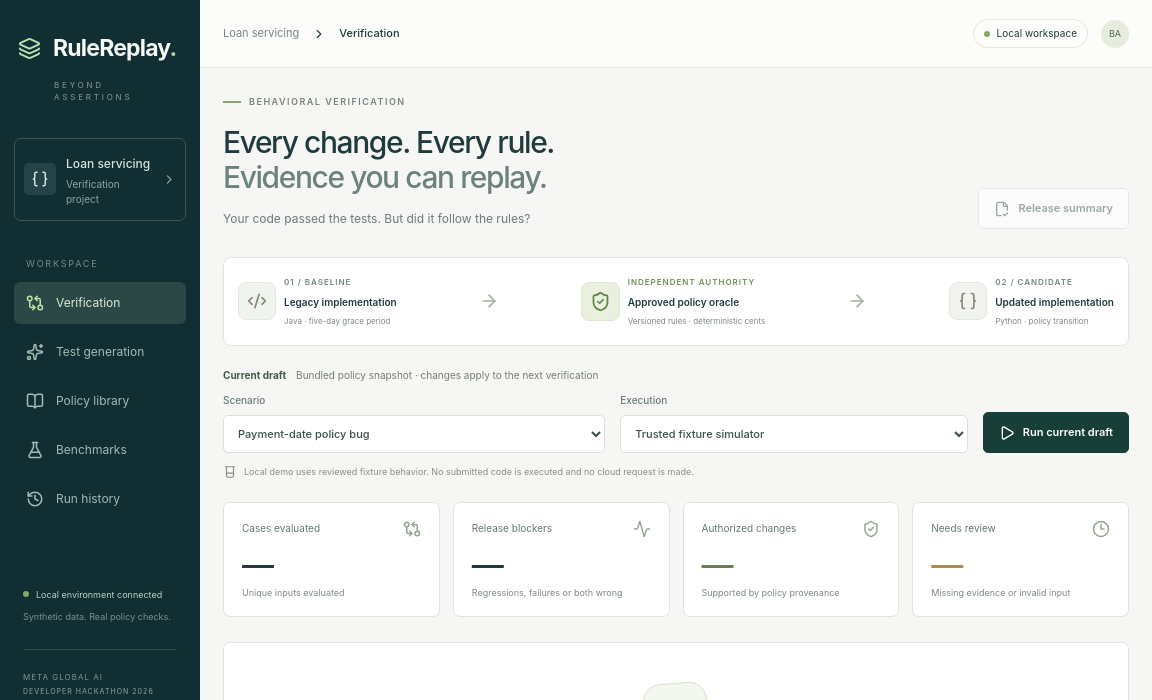
runs verification, inspects policy evidence and release decision
Expected: the text "Local environment connected" is shown, [23,588,177,601]
Click the button "Run current draft" at (1056, 433), box [983,412,1129,453]
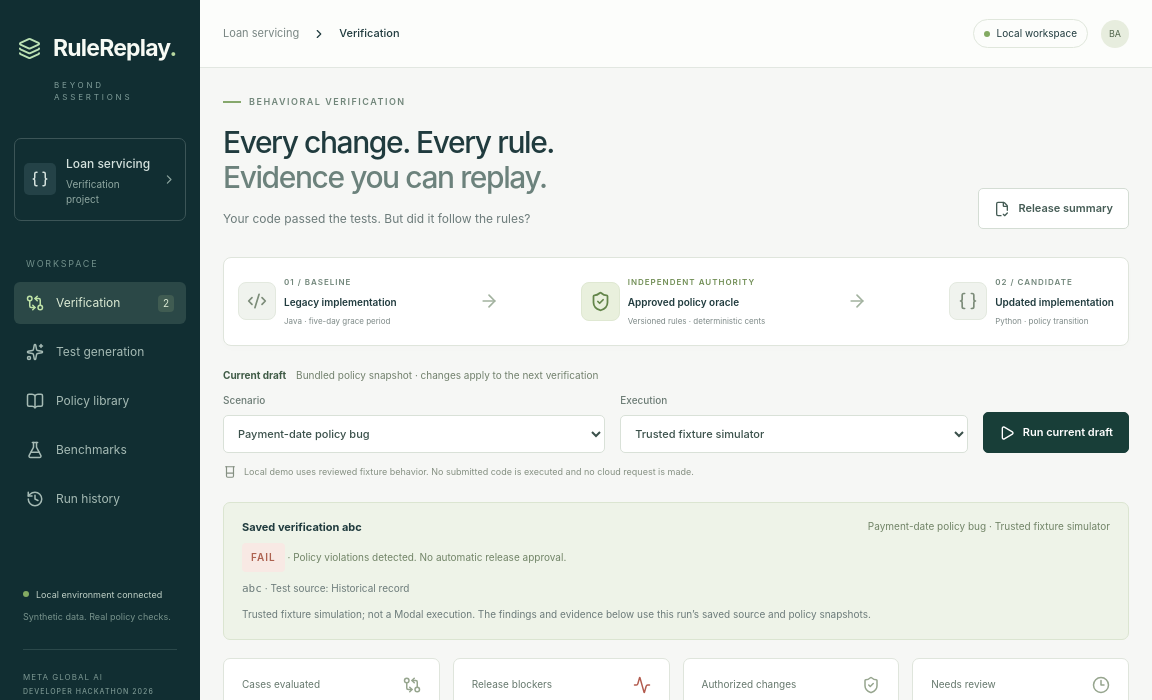
Click the button "Release summary" at (1054, 209), box [978,188,1129,229]
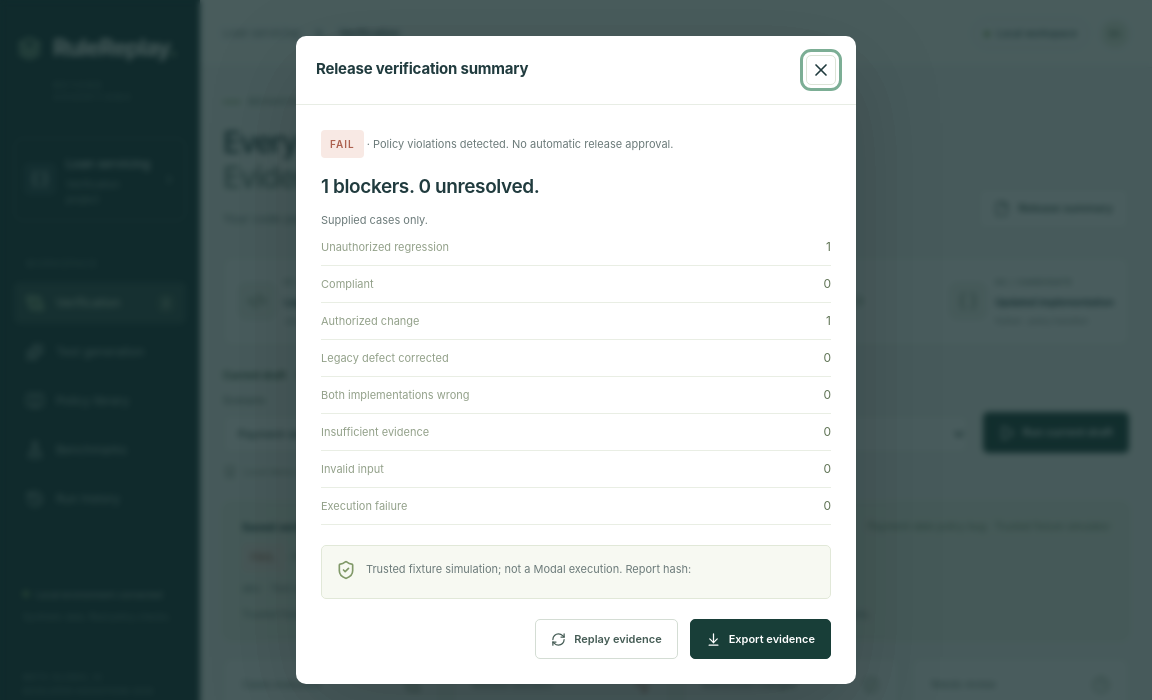
Now the dialog is shown, box [296,36,856,684]
Now the element named "Release advisory" shows "FAIL", box [330,138,355,150]
Click the button named "Close release summary" at (821, 70), box [806,55,836,85]
(page scrolled)
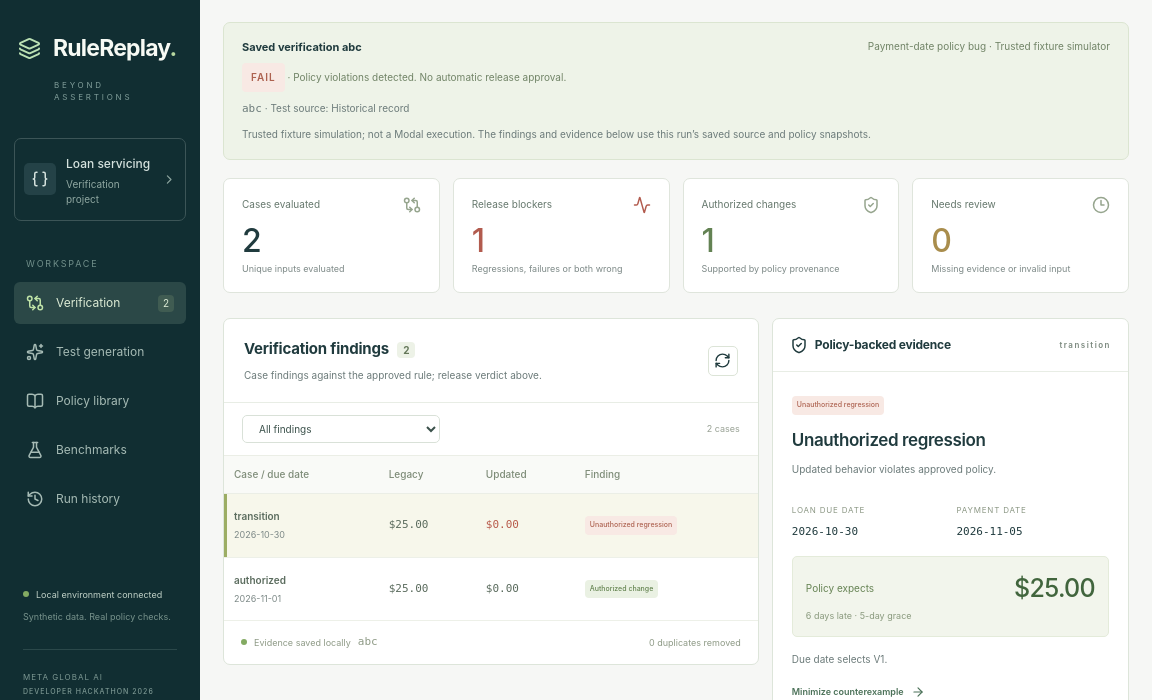
Click the button named "Replay saved evidence" at (723, 361), box [708,346,738,376]
(page scrolled)
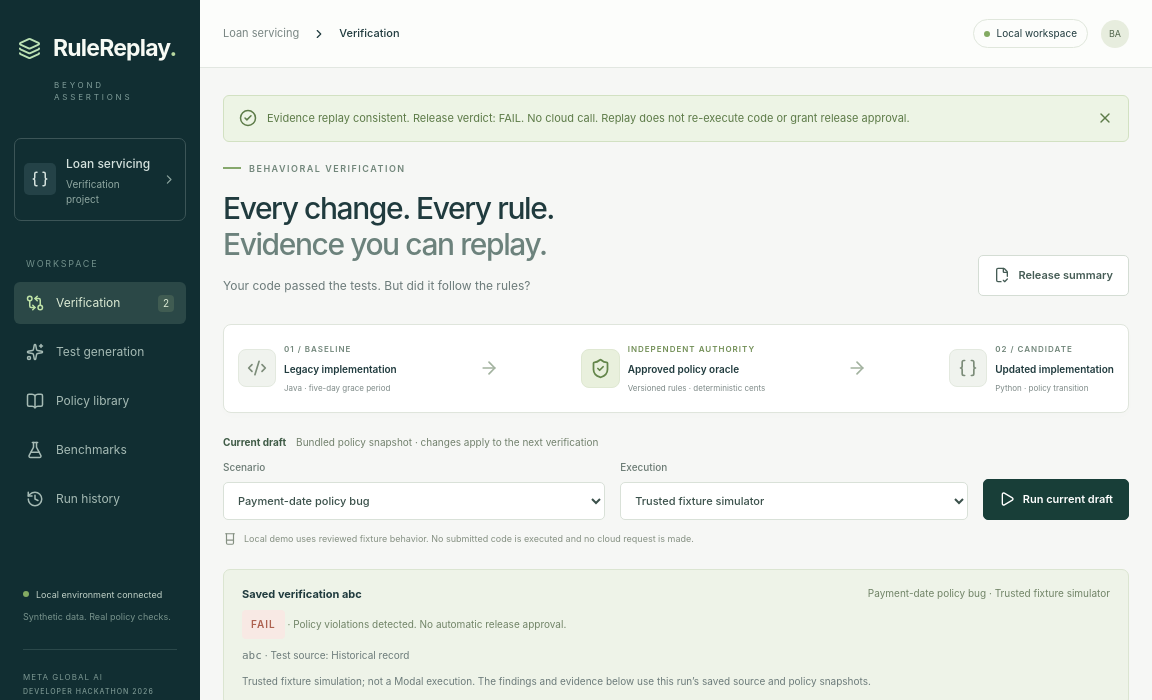
Now the message shows "Evidence replay consistent", box [267,111,910,125]
